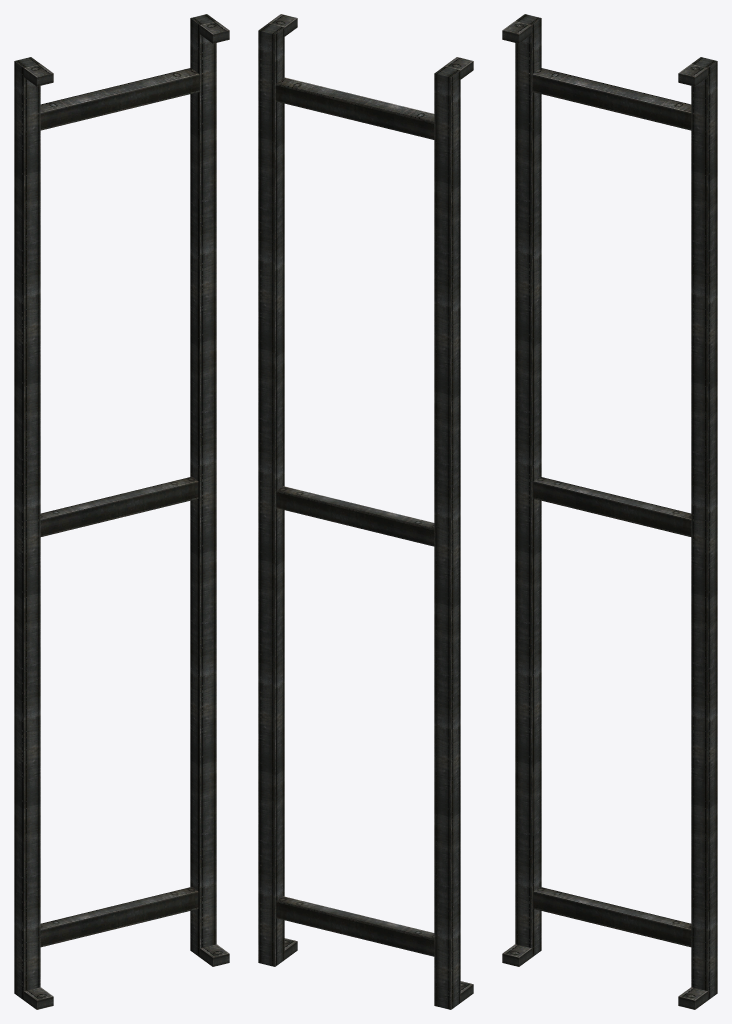
The model's file is pipe_support_frame.DAE.
The picture shows the model from 3 angles, left to right: view 1: azimuth 30°, elevation 25°; view 2: azimuth 150°, elevation 25°; view 3: azimuth 330°, elevation 25°; orthographic projection.
Visible parts, largest first — view 1: pipe_support_frame; view 2: pipe_support_frame; view 3: pipe_support_frame.
Part boxes in pixels (x1,y1,x2,y2): pipe_support_frame: (14,14,229,1009); pipe_support_frame: (258,14,473,1009); pipe_support_frame: (502,14,717,1009).
Size of the model in its own units: 0.8658 by 0.175 by 4.
